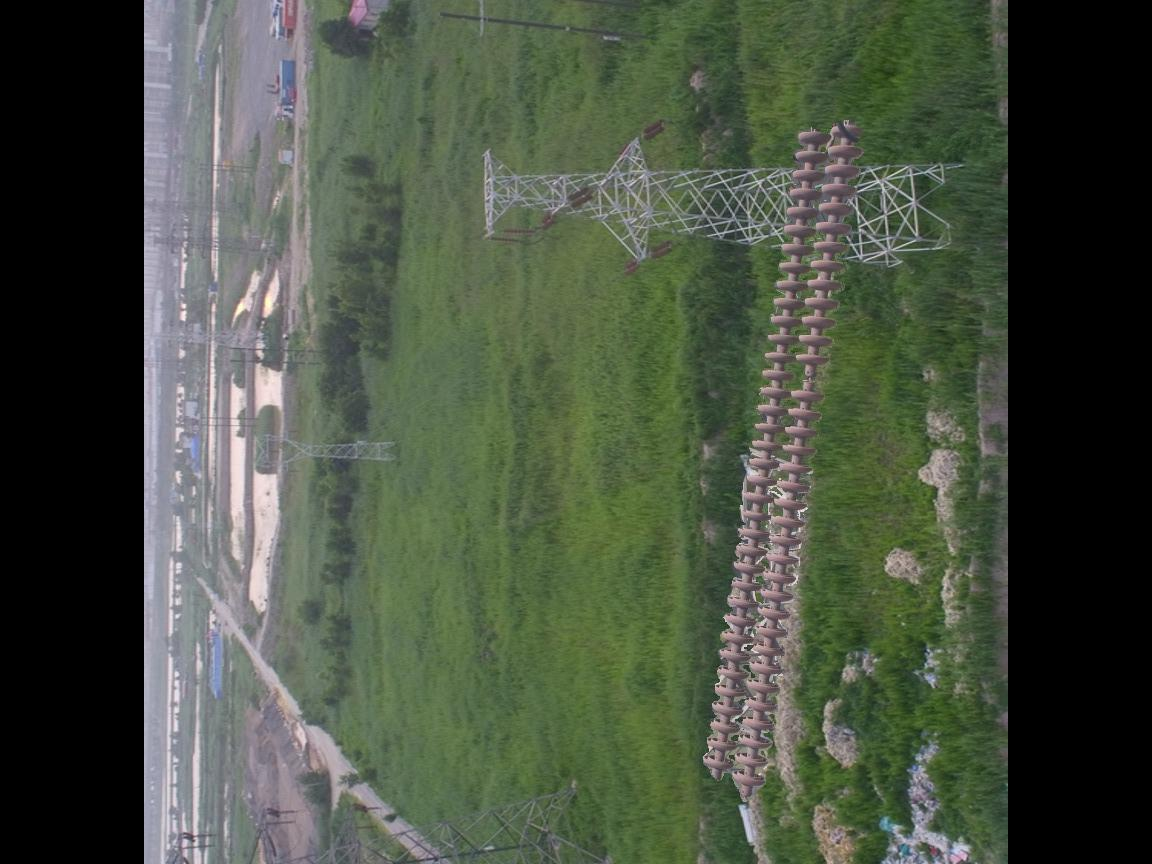insulator: (696, 114, 867, 792)
insulator_stringdrop: (787, 348, 832, 405)
